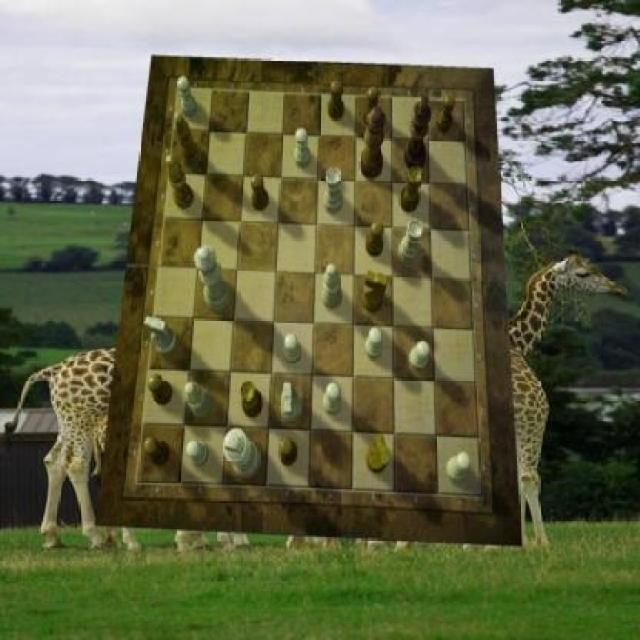bishop: (166, 155, 194, 210), (174, 112, 201, 167)
black-bishop: (405, 95, 432, 173)
black-king: (363, 271, 389, 313), (366, 434, 391, 474)
black-knight: (144, 437, 170, 468), (436, 94, 456, 134), (149, 374, 174, 404), (251, 172, 270, 210), (362, 86, 379, 126), (366, 222, 384, 258), (328, 80, 344, 120), (278, 437, 298, 466)
black-pawn: (360, 106, 386, 180)
black-queen: (398, 166, 422, 212), (240, 380, 263, 418)
black-rook: (186, 382, 214, 419), (322, 265, 342, 310)
white-bishop: (223, 428, 261, 478)
white-king: (144, 317, 178, 357), (280, 383, 302, 423)
white-knight: (177, 77, 198, 118), (446, 452, 471, 483), (294, 128, 311, 168), (411, 340, 431, 371), (323, 382, 341, 416), (186, 440, 209, 466), (283, 334, 302, 364), (365, 328, 382, 360)
white-pawn: (194, 246, 231, 312)
white-queen: (399, 220, 423, 264), (323, 168, 343, 214)
